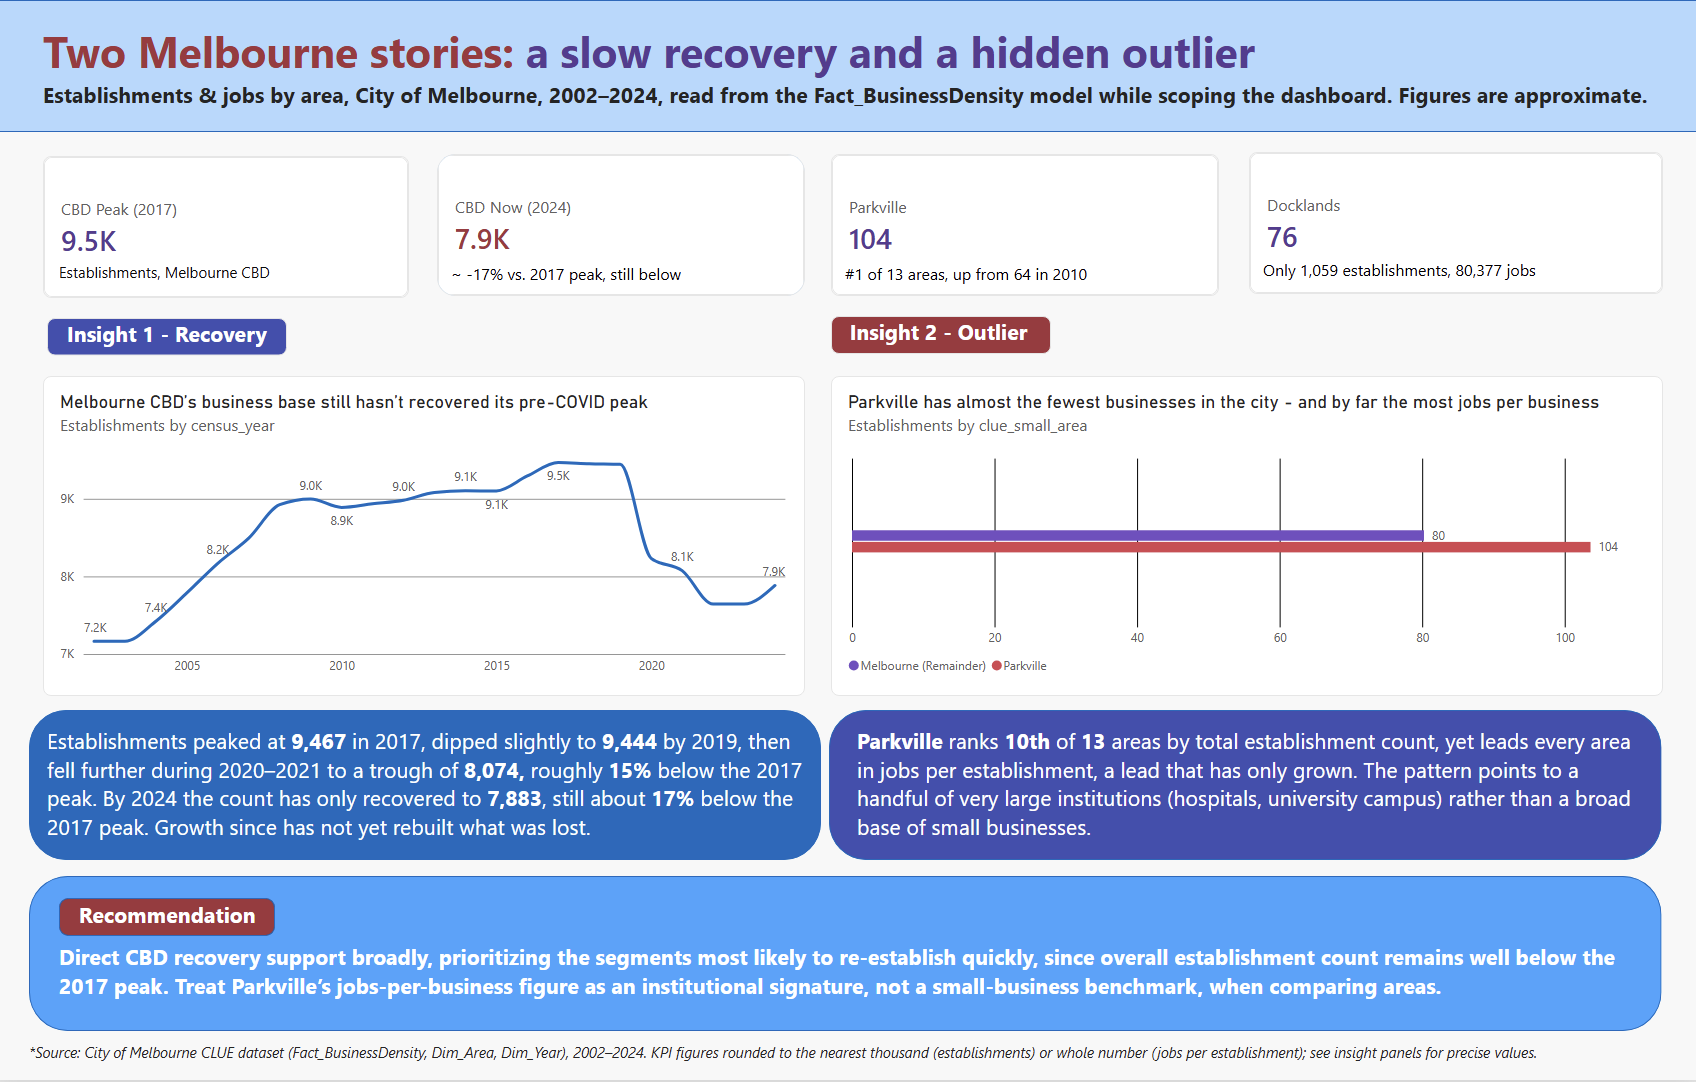

This screenshot's page, from the dashboard's own definition file:
{"tool":"powerbi","page":{"name":"DAR ","canvas":[1699,1080],"ordinal":0},"visuals":[{"type":"cardVisual","fields":{"Data":["Fact_BusinessDensity.CBD Peak Display"]},"box":[46,156,366,142],"z":1},{"type":"cardVisual","fields":{"Data":["Fact_BusinessDensity.CBD Now Display"]},"box":[440,154,368,142],"z":2},{"type":"textbox","box":[62,262,250,54],"z":4},{"type":"cardVisual","fields":{"Data":["Fact_BusinessDensity.Parkville Display"]},"box":[834,154,388,142],"z":5},{"type":"textbox","box":[848,262,284,150],"z":6},{"type":"textbox","box":[454,262,284,150],"z":7},{"type":"cardVisual","fields":{"Data":["Fact_BusinessDensity.Docklands Display"]},"box":[1252,152,414,142],"z":8},{"type":"textbox","box":[1266,258,284,150],"z":9},{"type":"textbox","box":[46,28,1320,152],"z":10},{"type":"textbox","box":[202,258,1652,54],"z":11},{"type":"lineChart","title":"Melbourne CBD’s business base still hasn’t recovered its pre-COVID peak","fields":{"Category":["Dim_Year.census_year"],"Y":["Fact_BusinessDensity.Total Establishments"]},"box":[46,376,762,320],"z":12},{"type":"clusteredBarChart","title":"Parkville has almost the fewest businesses in the city - and by far the most jobs per business","fields":{"Series":["Dim_Area.clue_small_area"],"Y":["Fact_BusinessDensity.Jobs per Establishment"]},"box":[834,376,832,320],"z":13},{"type":"textbox","box":[50,318,240,37.5],"z":14},{"type":"textbox","box":[834,316,220,38],"z":15},{"type":"textbox","box":[230,582.5,580,282.5],"z":16},{"type":"textbox","box":[834,710,832,128],"z":17},{"type":"shape","box":[32.5,875,1632.5,155],"z":20},{"type":"textbox","box":[62,942,1606,90],"z":21},{"type":"shape","box":[62,898,216,38],"z":22},{"type":"textbox","box":[82,900,212,150],"z":23},{"type":"shape","box":[32,710,792,150],"z":24},{"type":"textbox","box":[50,725,760,150],"z":25},{"type":"shape","box":[832,710,832.5,150],"z":26},{"type":"textbox","box":[860,725,777.5,150],"z":27},{"type":"shape","box":[2,0,1698,132],"z":28},{"type":"textbox","box":[46,22,1350,150],"z":29},{"type":"textbox","box":[46,80,1620,52],"z":30},{"type":"textbox","box":[32,1042,1582,38],"z":31}]}

Visuals, with their boxes in screenshot pixels (x1, y1, x2, y2), scaled from the page's 1699x1080 canvas onto the 1696x1082 screenshot:
cardVisual - Fact_BusinessDensity.CBD Peak Display: x1=46 y1=156 x2=411 y2=299
cardVisual - Fact_BusinessDensity.CBD Now Display: x1=439 y1=154 x2=807 y2=297
textbox: x1=62 y1=262 x2=311 y2=317
cardVisual - Fact_BusinessDensity.Parkville Display: x1=833 y1=154 x2=1220 y2=297
textbox: x1=847 y1=262 x2=1130 y2=413
textbox: x1=453 y1=262 x2=737 y2=413
cardVisual - Fact_BusinessDensity.Docklands Display: x1=1250 y1=152 x2=1663 y2=295
textbox: x1=1264 y1=258 x2=1547 y2=409
textbox: x1=46 y1=28 x2=1364 y2=180
textbox: x1=202 y1=258 x2=1695 y2=313
"Melbourne CBD’s business base still hasn’t recovered its pre-COVID peak" lineChart: x1=46 y1=377 x2=807 y2=697
"Parkville has almost the fewest businesses in the city - and by far the most jobs per business" clusteredBarChart: x1=833 y1=377 x2=1663 y2=697
textbox: x1=50 y1=319 x2=289 y2=356
textbox: x1=833 y1=317 x2=1052 y2=355
textbox: x1=230 y1=584 x2=809 y2=867
textbox: x1=833 y1=711 x2=1663 y2=840
shape: x1=32 y1=877 x2=1662 y2=1032
textbox: x1=62 y1=944 x2=1665 y2=1034
shape: x1=62 y1=900 x2=278 y2=938
textbox: x1=82 y1=902 x2=293 y2=1052
shape: x1=32 y1=711 x2=823 y2=862
textbox: x1=50 y1=726 x2=809 y2=877
shape: x1=831 y1=711 x2=1662 y2=862
textbox: x1=858 y1=726 x2=1635 y2=877
shape: x1=2 y1=0 x2=1695 y2=132
textbox: x1=46 y1=22 x2=1394 y2=172
textbox: x1=46 y1=80 x2=1663 y2=132
textbox: x1=32 y1=1044 x2=1611 y2=1081
